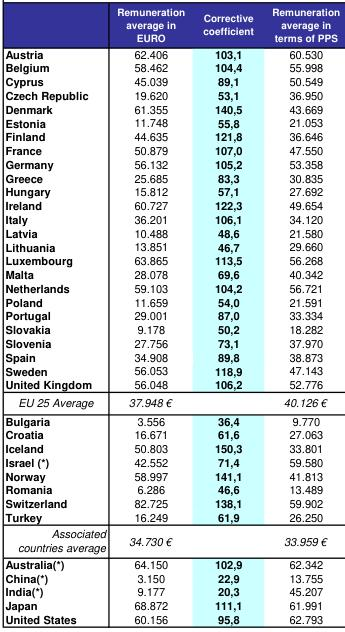table: (4, 3, 339, 626)
table column: (4, 3, 110, 626), (110, 3, 193, 626), (262, 3, 339, 626), (193, 3, 262, 626)
table column header: (4, 3, 339, 44)
table row: (4, 3, 339, 44), (4, 524, 339, 555), (4, 393, 339, 411), (4, 44, 339, 60), (4, 377, 339, 393), (4, 411, 339, 427), (4, 509, 339, 524), (4, 555, 339, 570), (4, 611, 339, 626), (4, 73, 339, 87), (4, 87, 339, 101), (4, 101, 339, 115), (4, 115, 339, 129), (4, 142, 339, 156), (4, 156, 339, 170), (4, 170, 339, 184), (4, 197, 339, 211), (4, 211, 339, 225), (4, 225, 339, 239), (4, 239, 339, 253), (4, 266, 339, 280), (4, 280, 339, 294), (4, 294, 339, 308), (4, 321, 339, 335), (4, 335, 339, 349), (4, 349, 339, 363), (4, 363, 339, 377), (4, 440, 339, 454), (4, 454, 339, 468), (4, 468, 339, 482), (4, 482, 339, 496), (4, 570, 339, 584), (4, 584, 339, 598), (4, 60, 339, 73), (4, 129, 339, 142), (4, 184, 339, 197), (4, 253, 339, 266), (4, 308, 339, 321), (4, 427, 339, 440), (4, 496, 339, 509), (4, 598, 339, 611)
